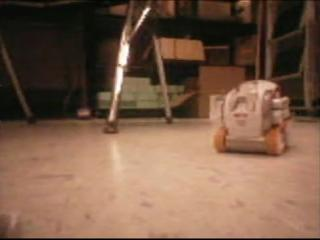cozmo: (210, 79, 292, 155)
